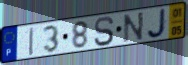3: (42, 24, 61, 54)
8: (70, 20, 90, 50)
I: (28, 26, 35, 57)
J: (146, 7, 168, 40)
N: (123, 11, 146, 44)
S: (93, 15, 116, 47)
